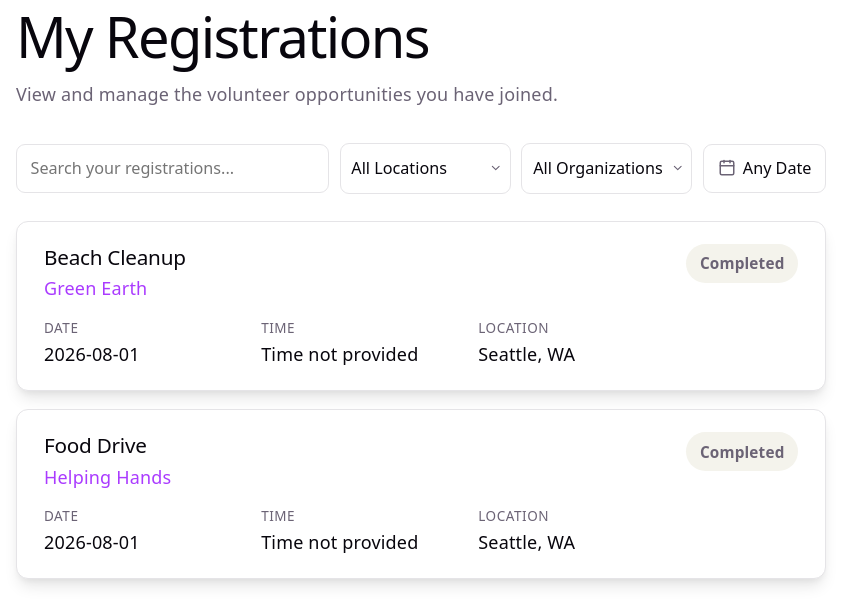
Test case: MyRegistrationsPage › filters the visible registrations by organization
expect the heading "Beach Cleanup" is shown: met, box 44,243 -> 186,271
expect the heading "Food Drive" is shown: met, box 44,431 -> 147,459
Select "Green Earth" in the dropdown named "Filter by organization": [607, 168] box 521,143 -> 692,194
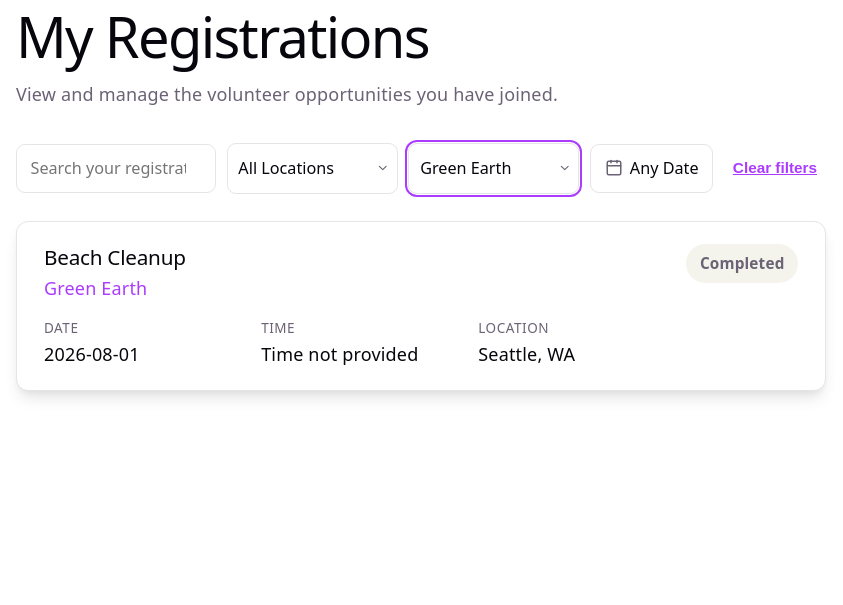
expect the heading "Beach Cleanup" is shown: met, box 44,243 -> 186,271
expect the heading "Food Drive" is gone: met
